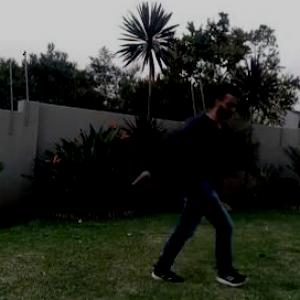land: (131, 75, 268, 290)
